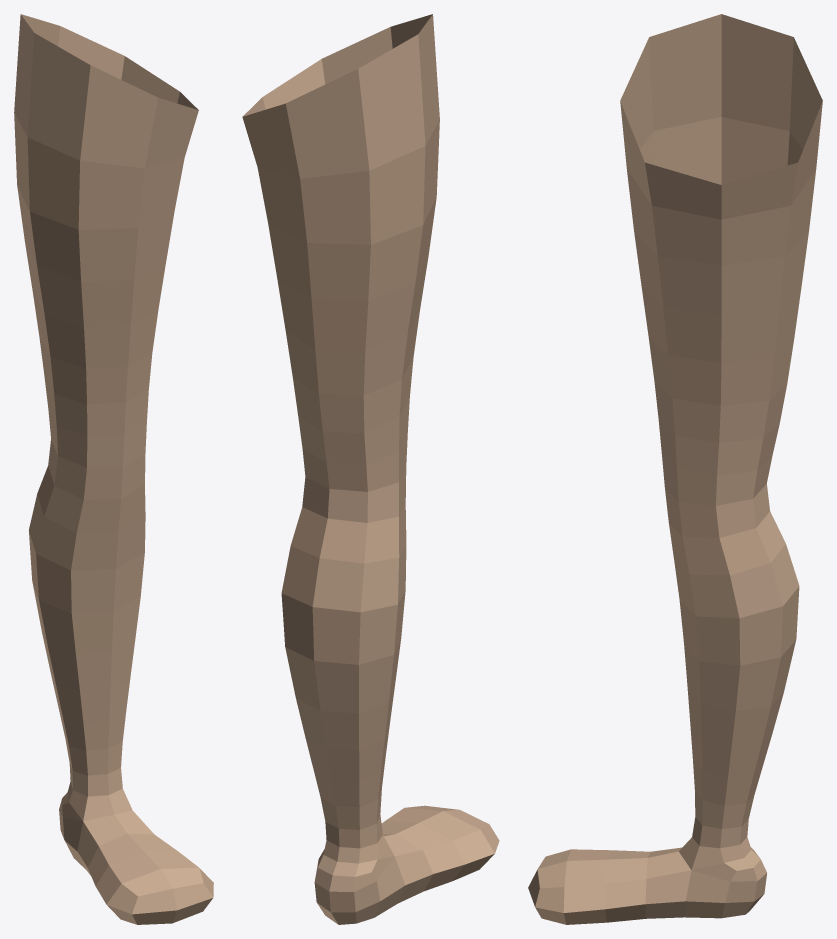
File: LeftLeg.fbx
3 views of the same model, side by side, from view 1: azimuth 30°, elevation 25°; view 2: azimuth 150°, elevation 25°; view 3: azimuth 270°, elevation 25° (orthographic). The views are drawn at different scales.
Visible parts, largest first — view 1: Vert.007; view 2: Vert.007; view 3: Vert.007.
Boxes of the visible parts, bbox=[...] form: Vert.007: bbox=[14, 14, 213, 924]; Vert.007: bbox=[242, 14, 499, 924]; Vert.007: bbox=[528, 14, 822, 924].
Bounding box in the file's own units: 60.17 × 319 × 97.48.
